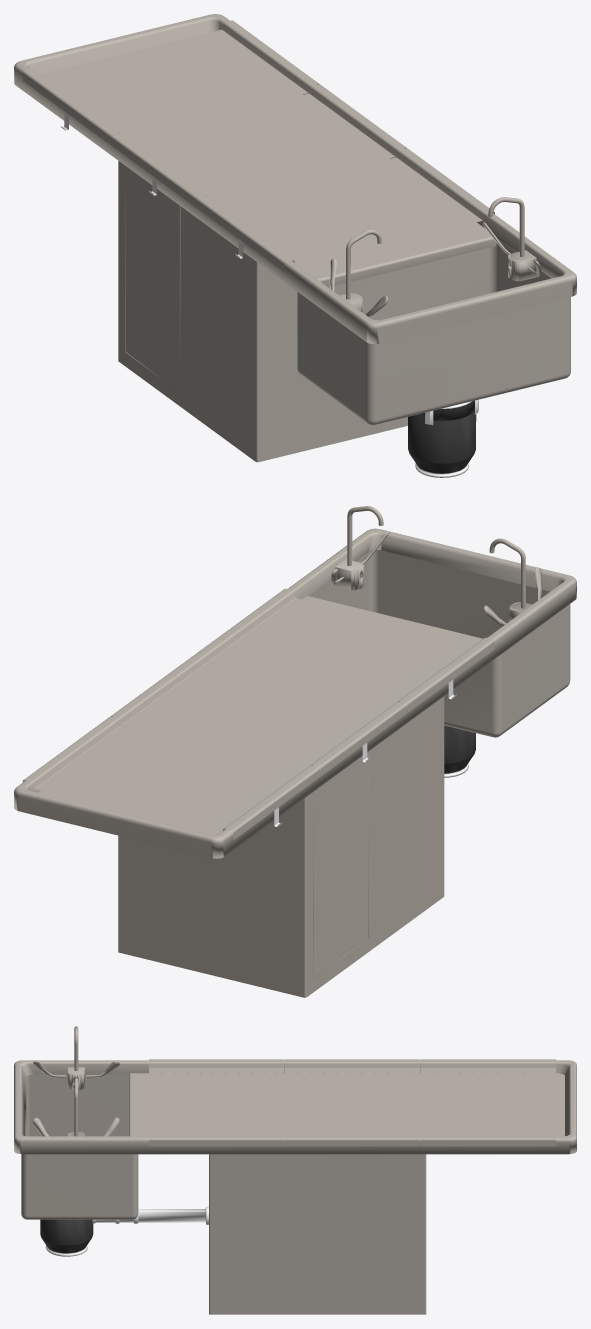
3 views of the same model, one above another, from view 1: azimuth 30°, elevation 25°; view 2: azimuth 150°, elevation 25°; view 3: azimuth 270°, elevation 25° (orthographic). The views are drawn at different scales.
Visible parts, largest first — view 1: MM-10; view 2: MM-10; view 3: MM-10.
Part boxes in pixels (left/top/right/bottom): MM-10: left=14, top=14, right=576, bottom=477; MM-10: left=14, top=506, right=576, bottom=997; MM-10: left=14, top=1026, right=576, bottom=1314.
Bounding box in the file's own units: 94.18 × 121 × 275.
Materials: 5 (1 with a texture image).
